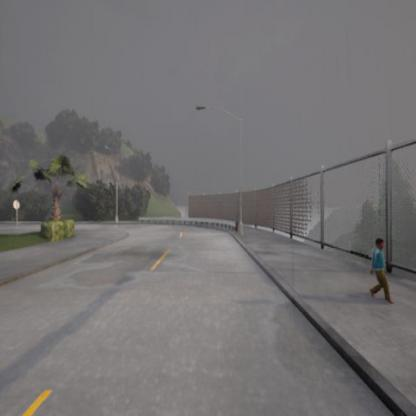person: (368, 239, 394, 304)
